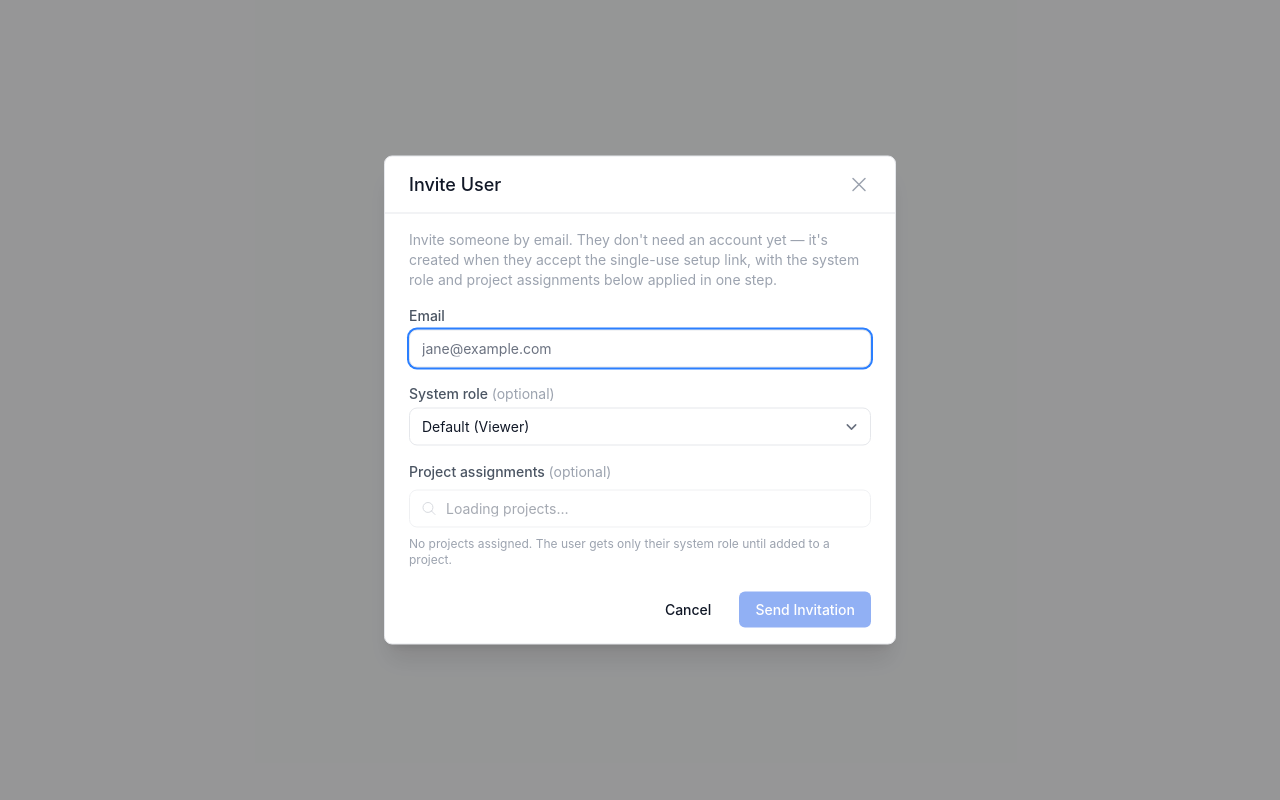
Test: GlobalInviteUserModal › shows actionable copy when the domain allowlist rejects the invite
This screenshot has width=1280, height=800.
Type "e@evil.example" into the field with placeholder "jane@example.com".
click(640, 348); type("e@evil.example")  # box [409, 330, 871, 368]
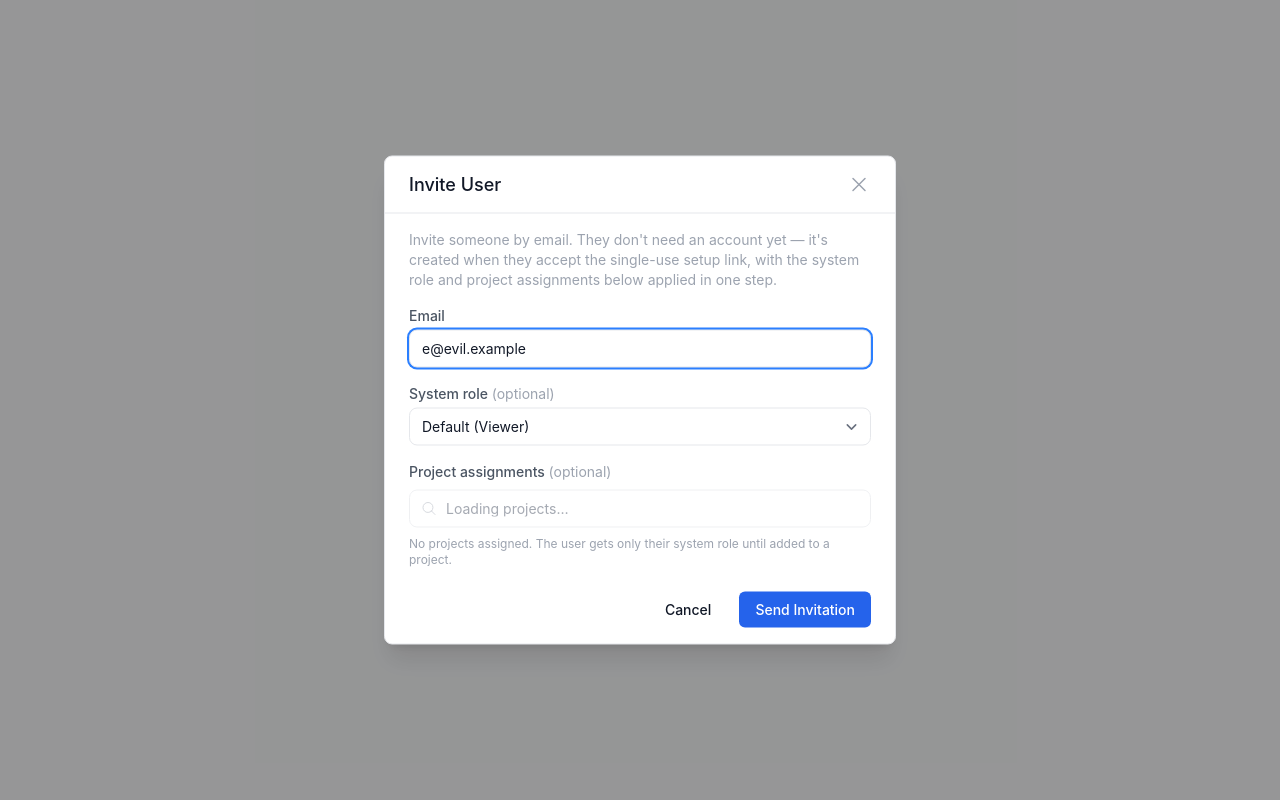
Click the button "Send Invitation".
click(805, 610)  # box [739, 592, 871, 628]
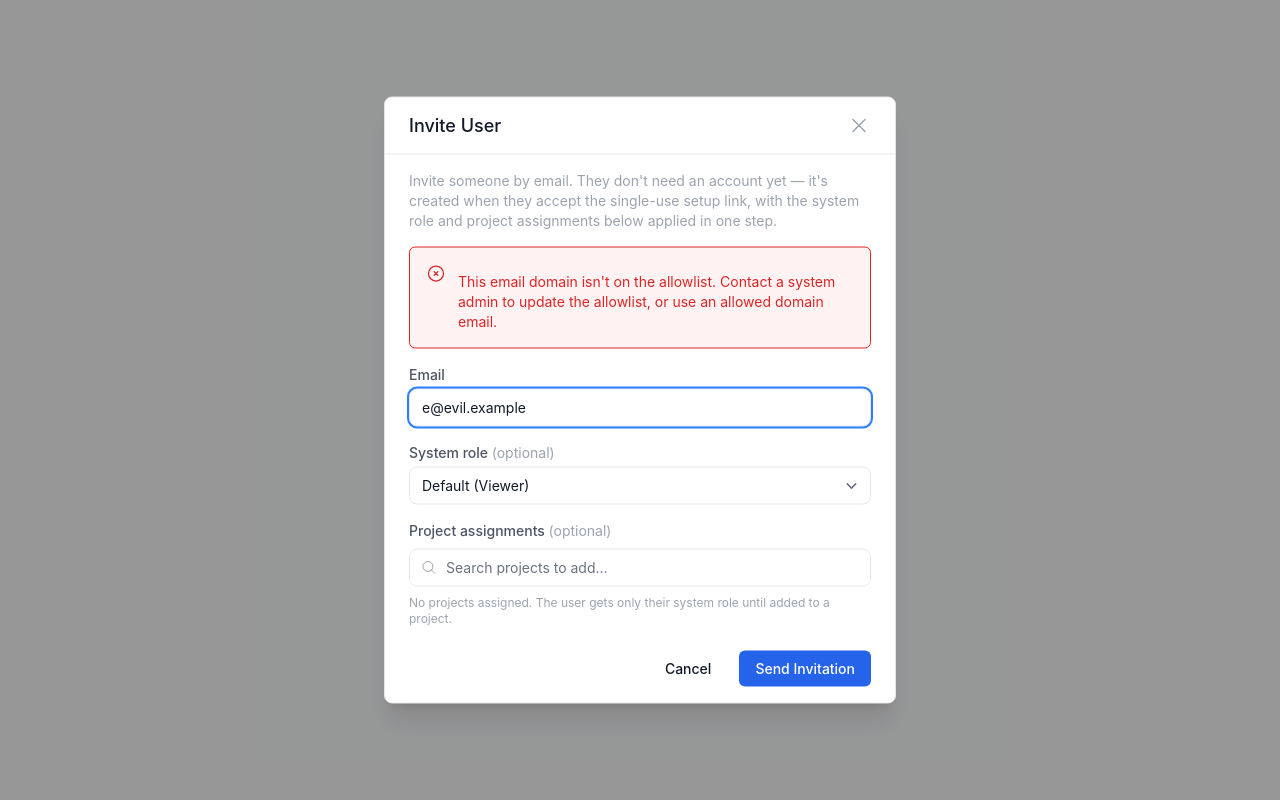
Expected: the text "contact a system admin to update the allowlist" is shown, [458, 272, 835, 330]
